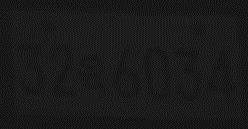0: (139, 52, 173, 103)
2: (46, 45, 75, 97)
3: (172, 47, 206, 107), (12, 43, 47, 98)
4: (207, 46, 244, 108)
6: (110, 49, 139, 103)
육: (75, 54, 110, 103)
